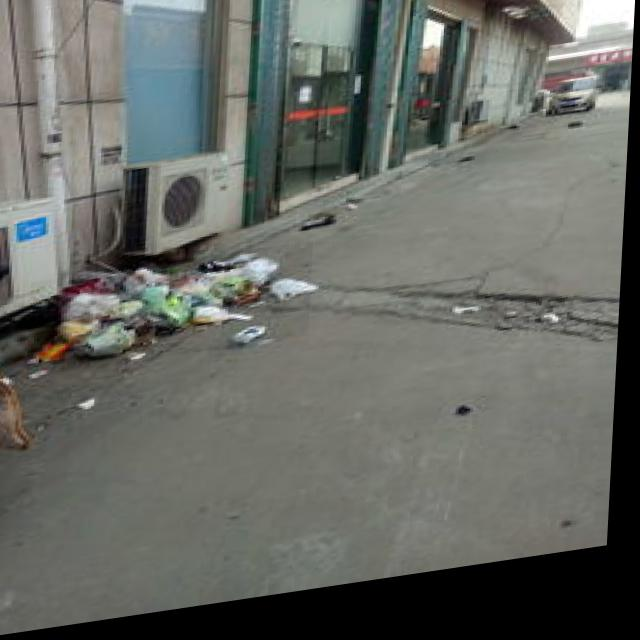garbage: (31, 251, 316, 379)
